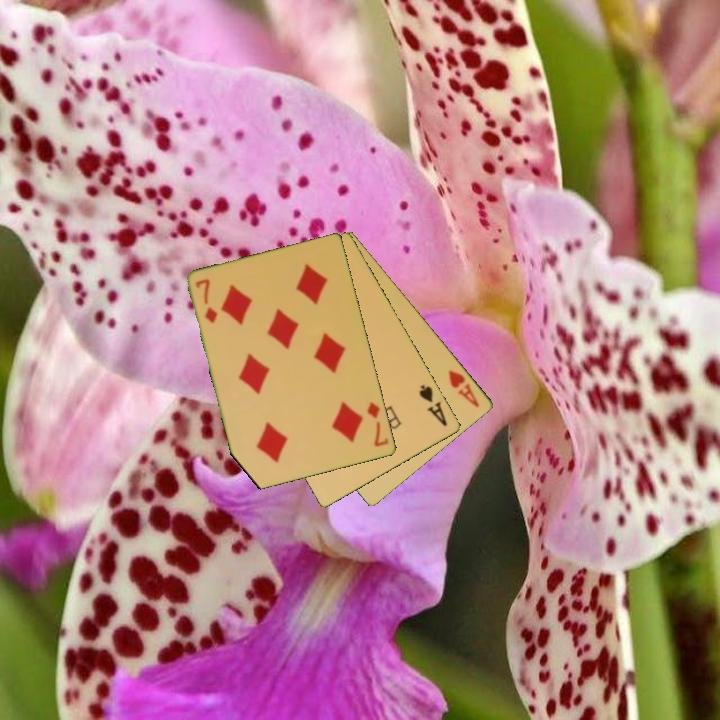7d: (192, 275, 221, 326), (364, 399, 392, 450)
Ah: (445, 366, 483, 410)
As: (416, 381, 450, 429)
